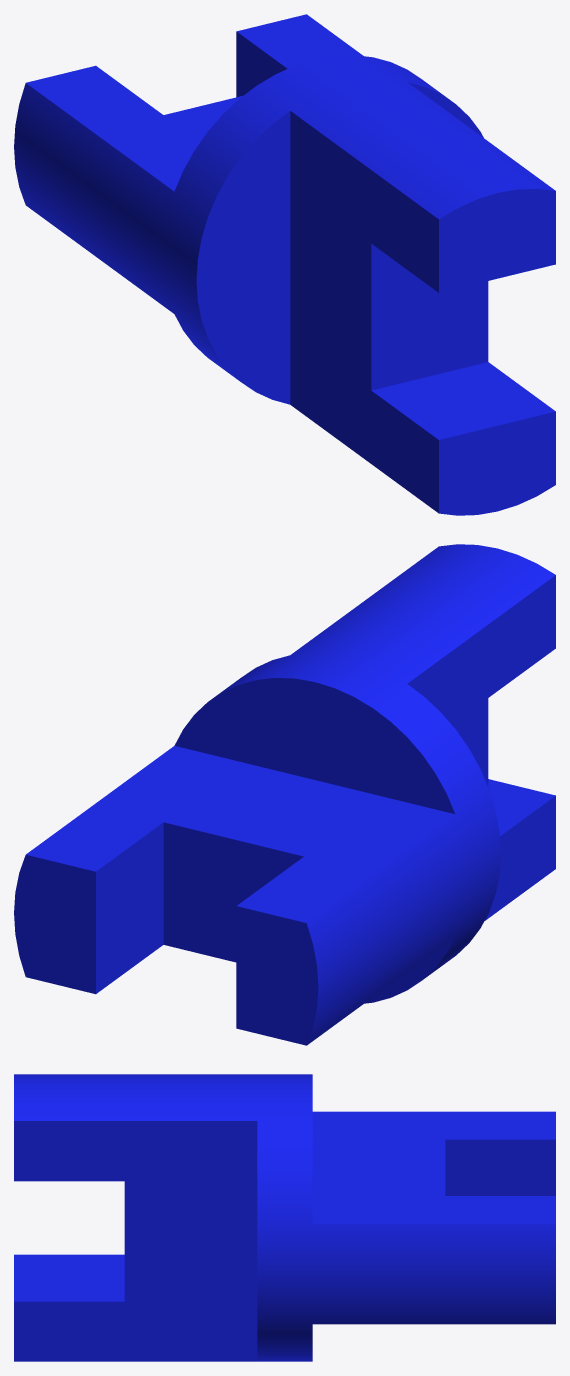
The model's file is asset.glb.
The picture shows the model from 3 angles, top to bottom: view 1: azimuth 30°, elevation 25°; view 2: azimuth 150°, elevation 25°; view 3: azimuth 270°, elevation 25°; orthographic projection. The views are drawn at different scales.
Visible parts, largest first — view 1: Solid1; view 2: Solid1; view 3: Solid1.
Boxes of the visible parts, x1,y1,x2,y2 form: Solid1: [14, 14, 555, 515]; Solid1: [14, 544, 555, 1045]; Solid1: [14, 1074, 555, 1361].
Size of the model in its own units: 0.052 by 0.052 by 0.098.
